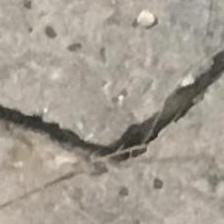Crack: (0, 56, 224, 188)
